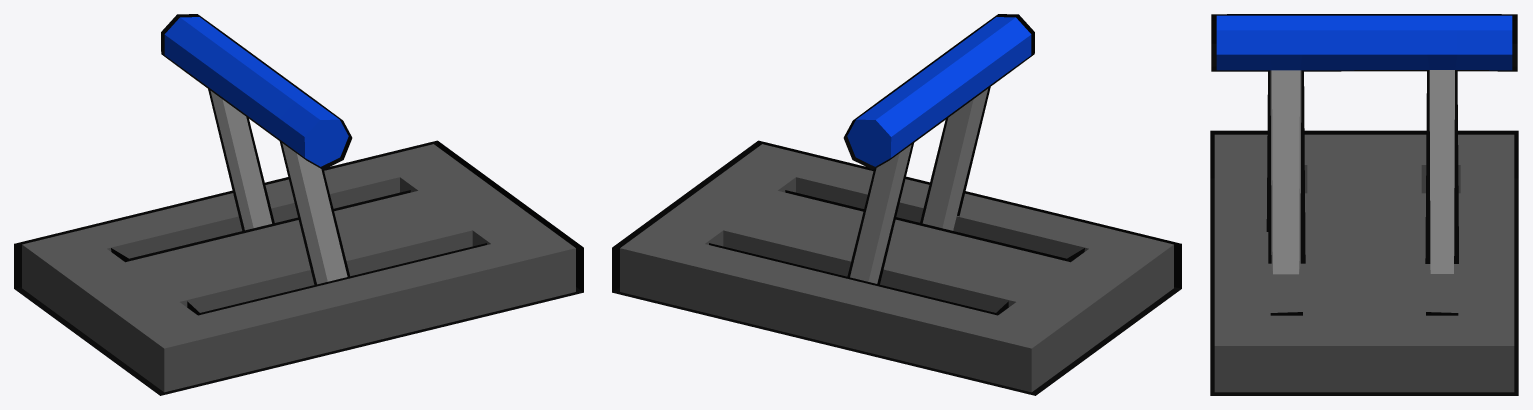
Rendered from Lever.fbx.
3 views of the same model, side by side, from view 1: azimuth 30°, elevation 25°; view 2: azimuth 150°, elevation 25°; view 3: azimuth 270°, elevation 25° (orthographic). The views are drawn at different scales.
Visible parts, largest first — view 1: Cube, Cylinder; view 2: Cube, Cylinder; view 3: Cube, Cylinder.
Boxes of the visible parts, box(x1,y1,x2,y2) form: Cube: box(14, 140, 583, 395); Cylinder: box(161, 14, 352, 284); Cube: box(612, 140, 1181, 395); Cylinder: box(843, 14, 1034, 284); Cube: box(1210, 130, 1518, 395); Cylinder: box(1211, 14, 1517, 274).
Bounding box in the file's own units: 344 × 183 × 206.
